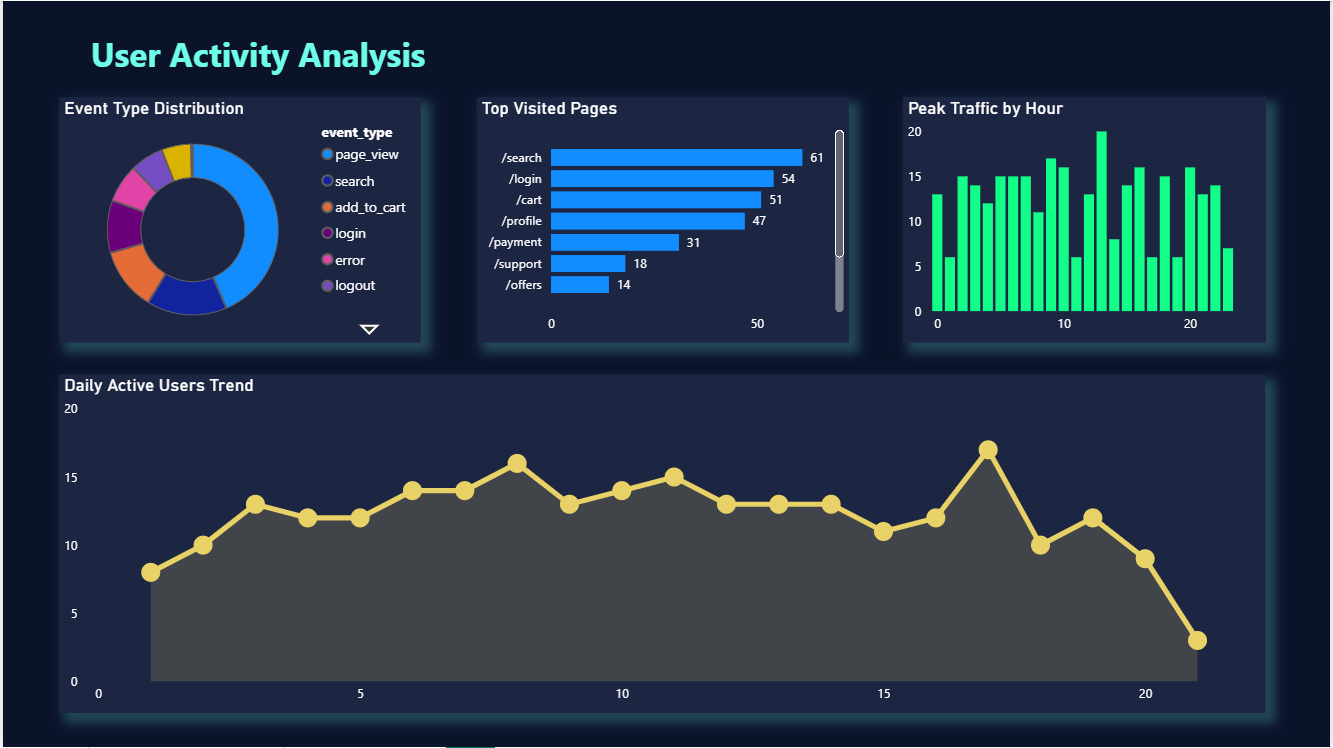

This screenshot's page, from the dashboard's own definition file:
{"tool":"powerbi","page":{"name":"User Activity Analysis","canvas":[1280,720],"ordinal":1},"visuals":[{"type":"donutChart","title":"Event Type Distribution","fields":{"Category":["cleaned_logs.event_type"],"Y":["CountNonNull(cleaned_logs.log_id)"]},"box":[54.8,92.3,349.1,236.6],"z":0},{"type":"clusteredBarChart","title":"Top Visited Pages","fields":{"Category":["cleaned_logs.page_url"],"Y":["CountNonNull(cleaned_logs.log_id)"]},"box":[457.1,92.7,359.2,236.6],"z":1000},{"type":"clusteredColumnChart","title":"Peak Traffic by Hour","fields":{"Category":["cleaned_logs.event_hour"],"Y":["CountNonNull(cleaned_logs.log_id)"]},"box":[868.5,92.3,350.6,236.6],"z":2000},{"type":"lineChart","title":"Daily Active Users Trend","fields":{"Category":["cleaned_logs.event_date.Variation.Date Hierarchy.Day"],"Y":["Count(cleaned_logs.user_id)"]},"box":[54.8,360.7,1164.3,326.1],"z":3000},{"type":"textbox","box":[79.4,24.5,424.2,56.3],"z":4000}]}

Visuals, with their boxes in screenshot pixels (x1, y1, x2, y2), scaled from the page's 1280x720 canvas onto the 1333x748 screenshot:
"Event Type Distribution" donutChart: detection(57, 96, 421, 342)
"Top Visited Pages" clusteredBarChart: detection(476, 96, 850, 342)
"Peak Traffic by Hour" clusteredColumnChart: detection(904, 96, 1270, 342)
"Daily Active Users Trend" lineChart: detection(57, 375, 1270, 714)
textbox: detection(83, 25, 524, 84)
